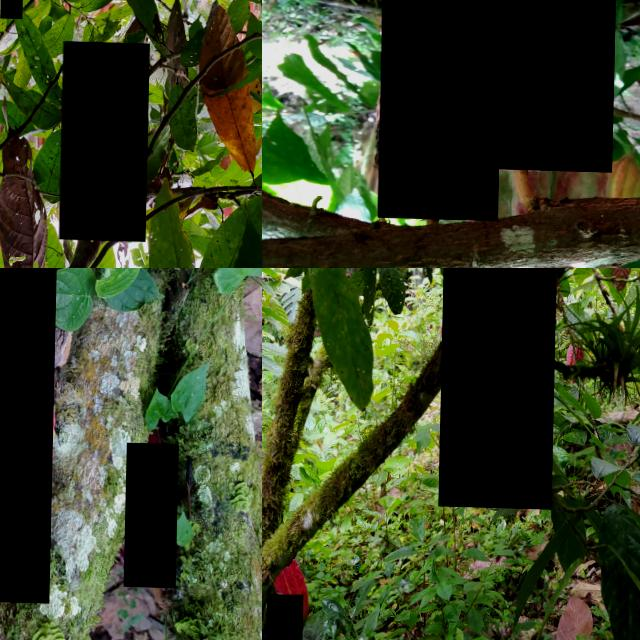Fitoftora: (442, 0, 618, 170), (5, 268, 96, 359), (375, 84, 408, 171), (477, 163, 502, 188), (1, 0, 24, 17)
Monilia: (268, 593, 305, 640)
Sana: (440, 268, 559, 507), (379, 0, 504, 219), (469, 82, 616, 268), (0, 268, 58, 600), (61, 39, 150, 239), (127, 440, 181, 585), (276, 550, 312, 628), (612, 151, 640, 199)
